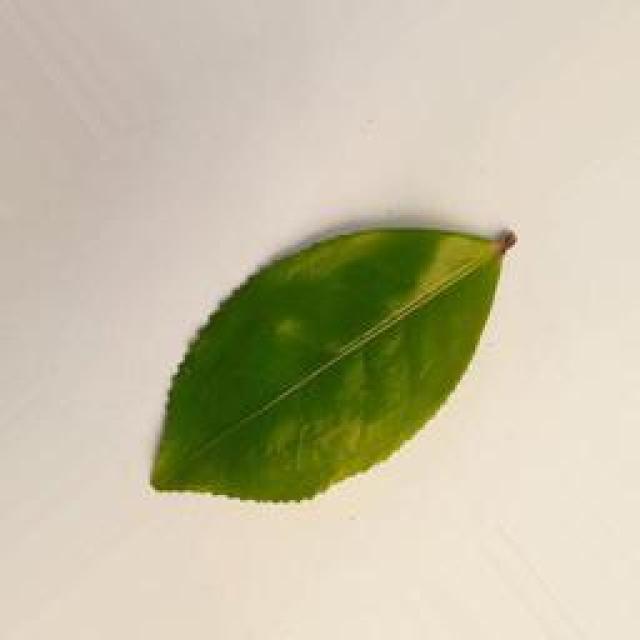Healthy: (143, 199, 530, 519)
